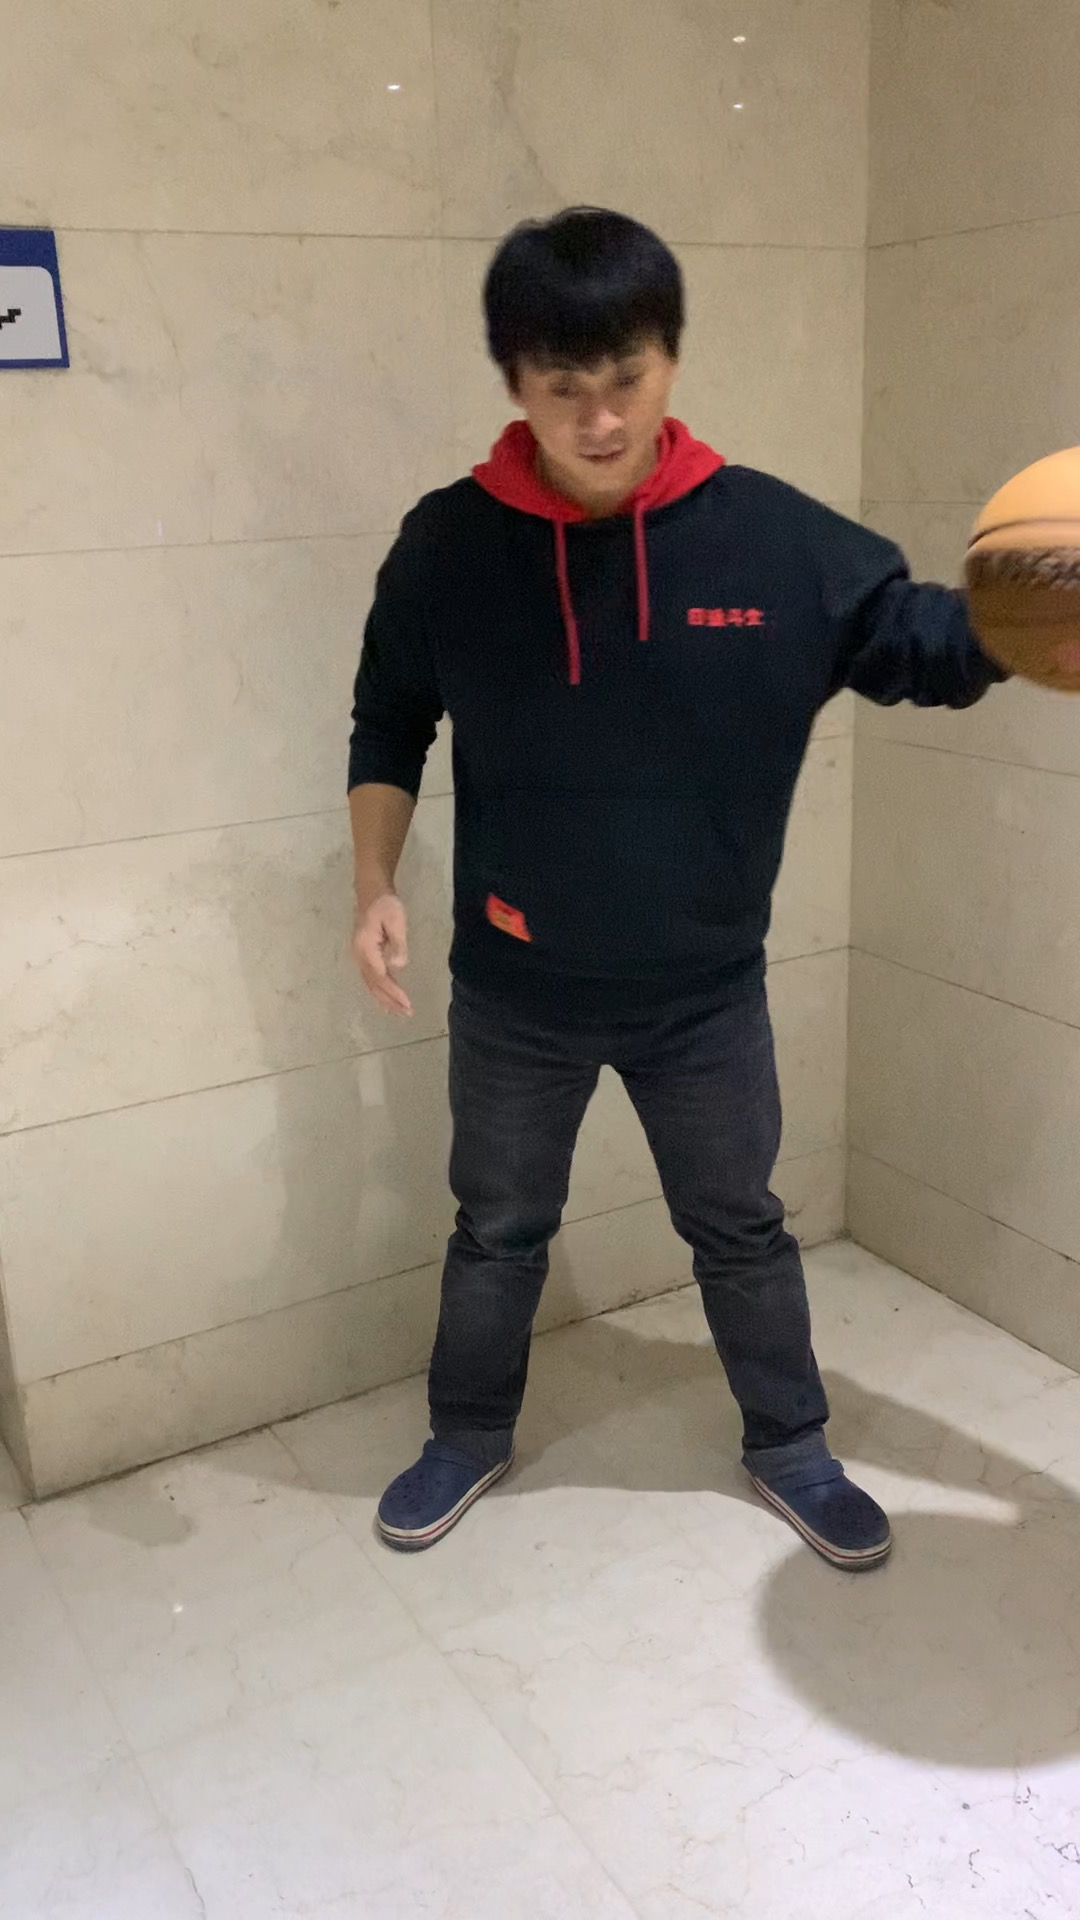ball: (953, 433, 1080, 702)
